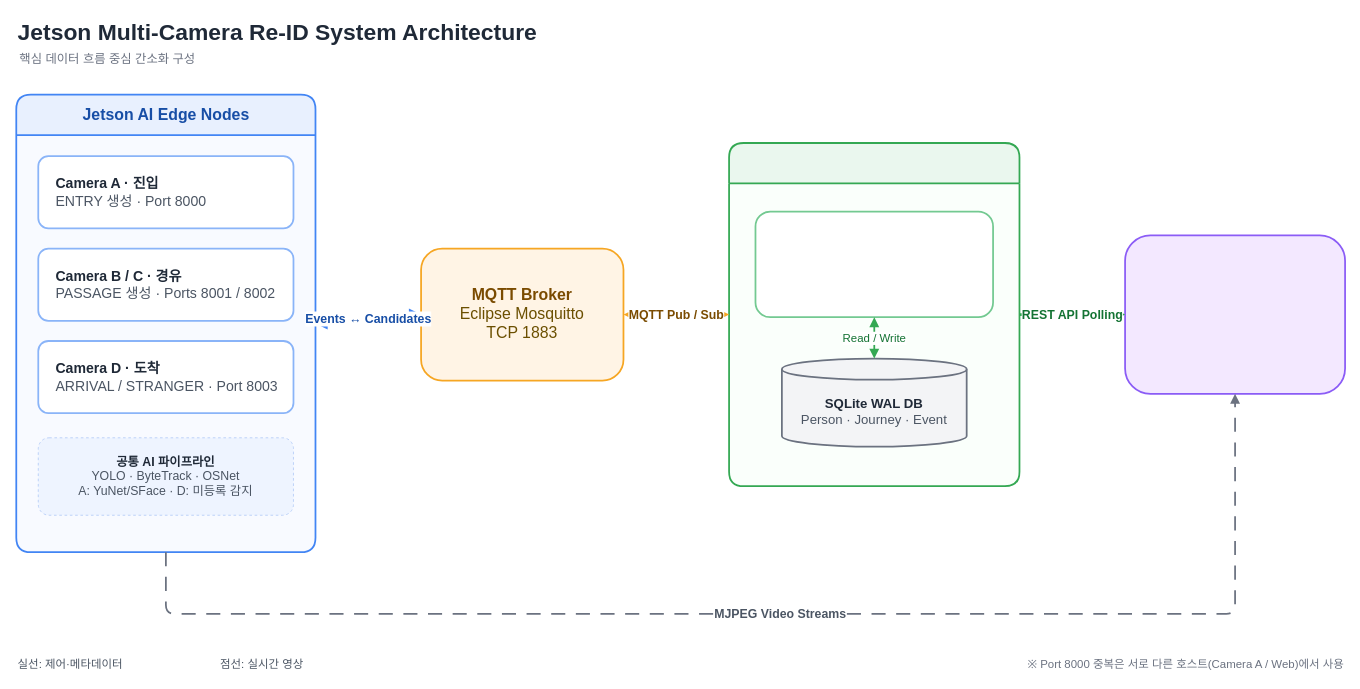
The diagram is 1360 pixels wide and 689 high, and some of its shapes have lost their labels. The shapes that lost their labels are listed below. From the top down, each one's box as (x1, y1, x2, y2) in pixels, then its label:
(754, 210, 994, 318): Main Server 중앙 제어 · Re-ID 판정 REST 8080 · Admin 8091
(728, 142, 1020, 487): Central Core
(1124, 234, 1346, 394): Web Dashboard Django / Daphne Monitoring · Admin Port 8000
